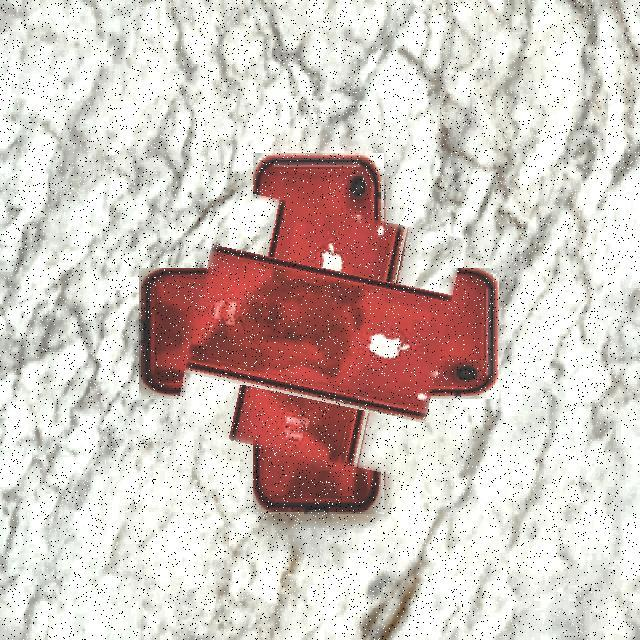Phone: (184, 199, 453, 468)
